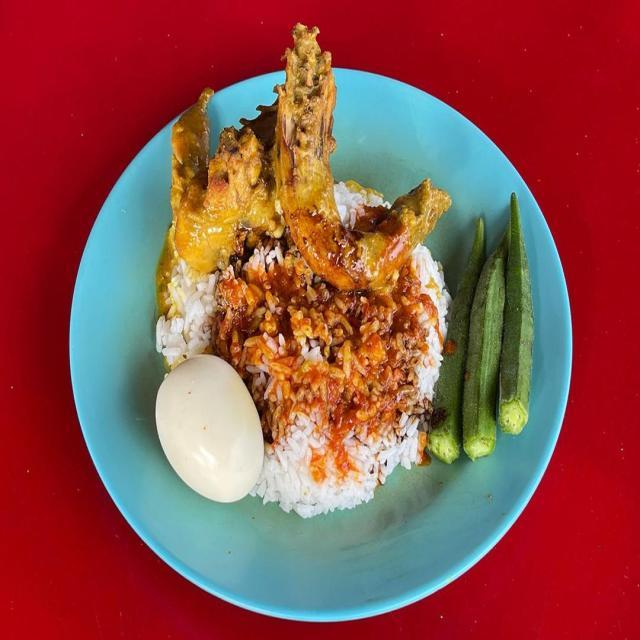Chicken: (169, 26, 451, 298)
Egg: (146, 357, 270, 502)
Plate: (69, 68, 571, 621)
Rice: (165, 250, 449, 503)
Vegetables: (426, 187, 536, 464)
